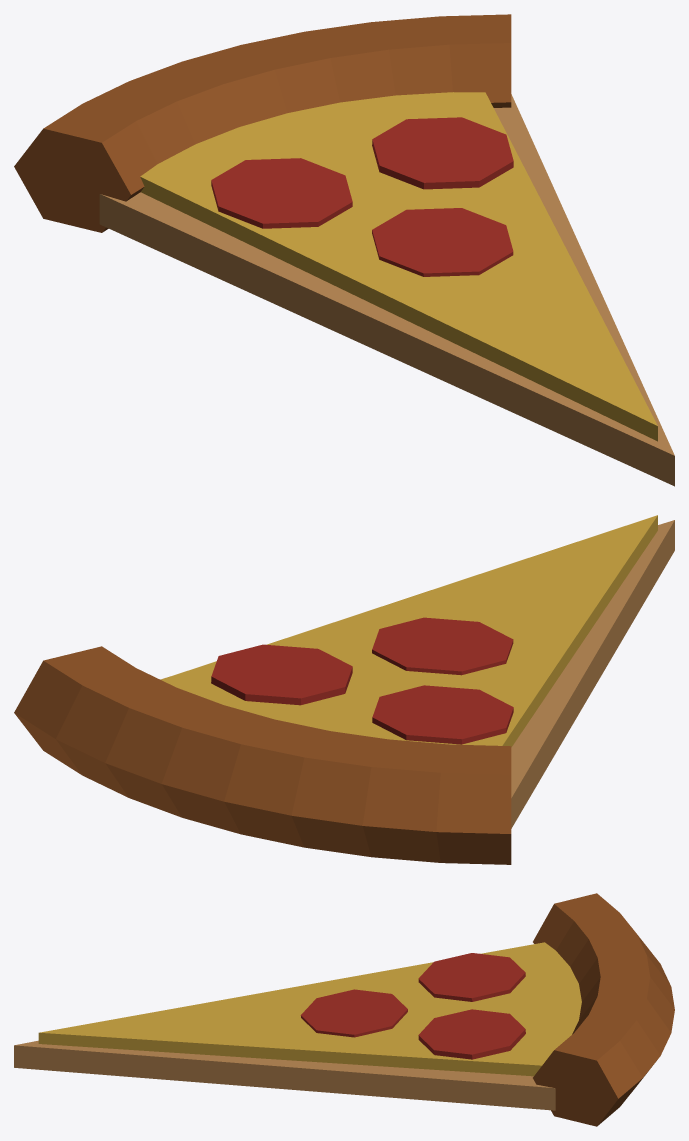
Rendered from pizza-slice-ddfb9d.glb.
The picture shows the model from 3 angles, top to bottom: view 1: azimuth 30°, elevation 25°; view 2: azimuth 150°, elevation 25°; view 3: azimuth 270°, elevation 25°; orthographic projection. The views are drawn at different scales.
Size of the model in its own units: 0.2039 by 0.0486 by 0.3202.
